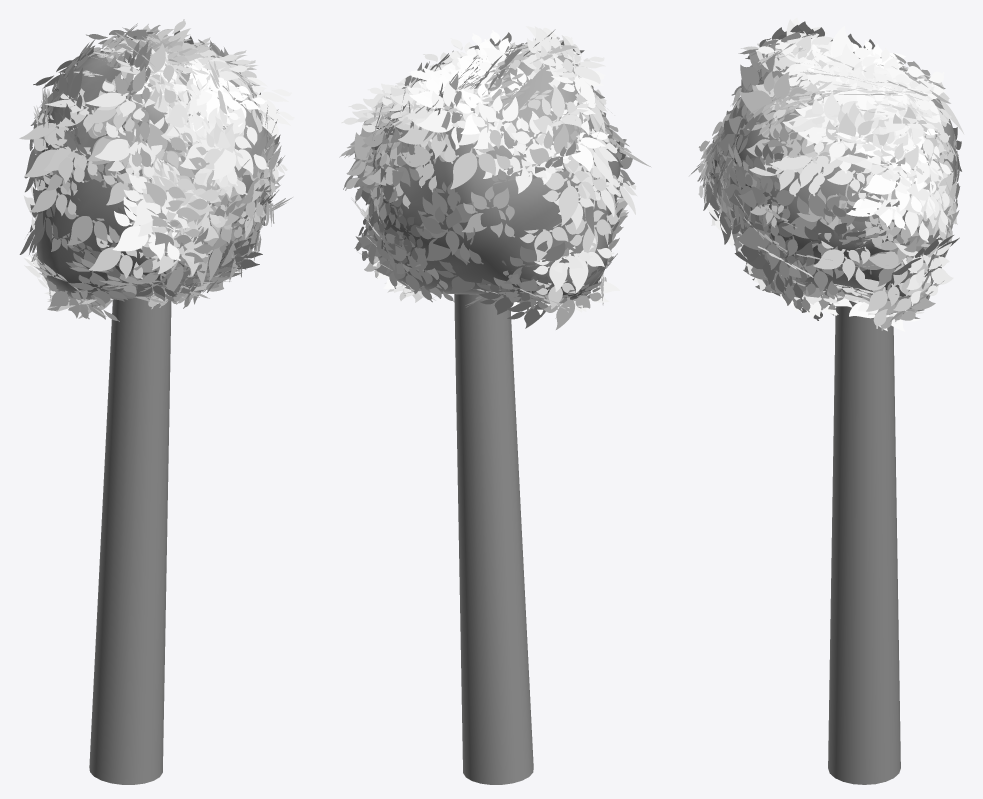
Rendered from tree buenardiño.fbx.
3 views of the same model, side by side, from view 1: azimuth 30°, elevation 25°; view 2: azimuth 150°, elevation 25°; view 3: azimuth 270°, elevation 25° (orthographic). The views are drawn at different scales.
Visible parts, largest first — view 1: MASH1_ReproMesh, pCylinder1, pSphere1; view 2: MASH1_ReproMesh, pCylinder1, pSphere1; view 3: MASH1_ReproMesh, pCylinder1, pSphere1.
Boxes of the visible parts, x1,y1,x2,y2 form: MASH1_ReproMesh: (19, 19, 294, 321); pCylinder1: (89, 293, 171, 784); pSphere1: (36, 51, 270, 299); MASH1_ReproMesh: (339, 26, 651, 329); pCylinder1: (454, 294, 533, 784); pSphere1: (372, 51, 620, 300); MASH1_ReproMesh: (689, 17, 964, 331); pCylinder1: (828, 300, 900, 784); pSphere1: (708, 49, 955, 298).
Bounding box in the file's own units: 540 × 1497 × 510.
3 materials, 1 textured.
